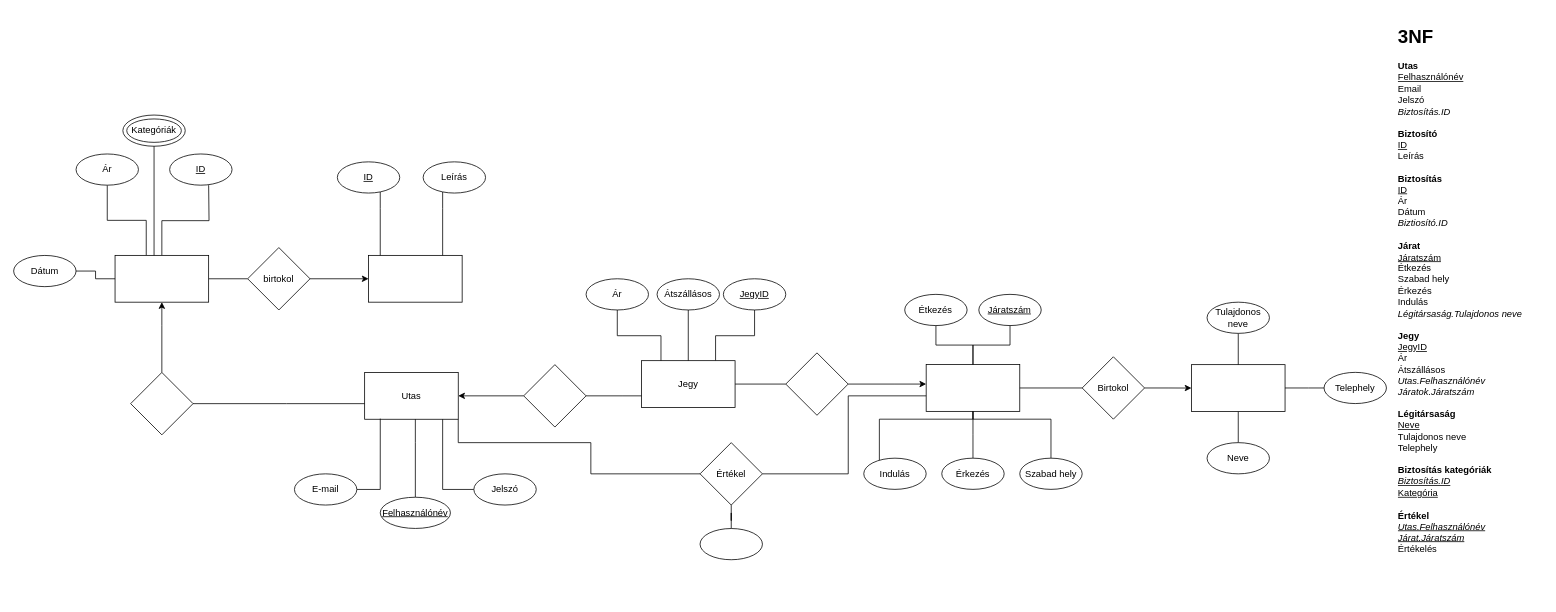
The diagram is 1556 pixels wide and 612 high, and some of its shapes have lost their labels. The shapes that lost their labels are listed below. From the top down, each one's centre as x and y in pixels, then its label:
At (161,278): "Biztosítás".
At (415,278): "Biztosító".
At (161,403): "Biztosítást köt".
At (554,395): "Jegyfoglalás".
At (816,383): "Tartozik".
At (972,387): "Járat".
At (1238,387): "Légitársaság".
At (730,544): "Értékelés".
